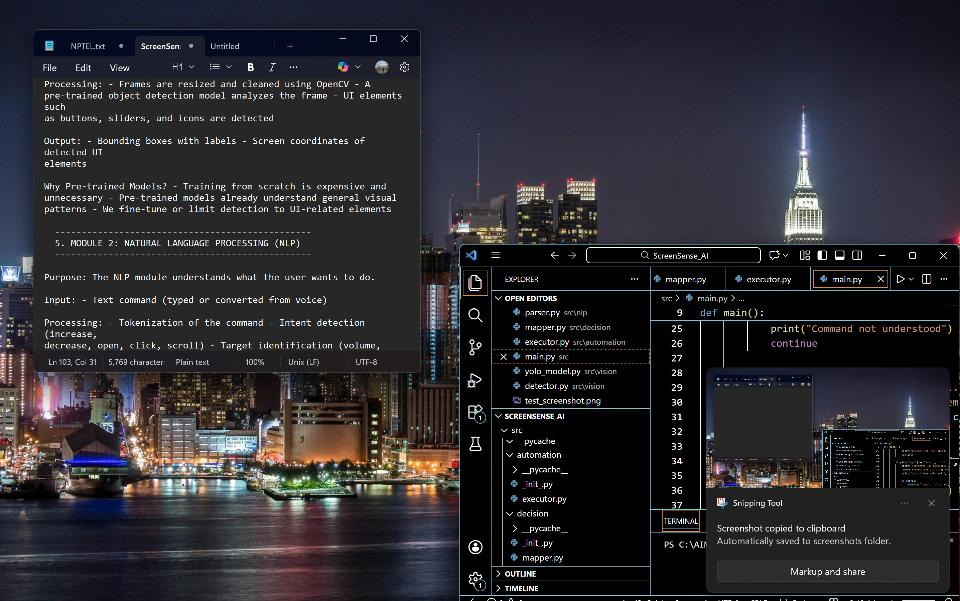close_button: (391, 32, 418, 55), (933, 246, 956, 266)
maximize_button: (362, 30, 385, 54), (901, 246, 927, 265)
minimize_button: (330, 30, 358, 54), (871, 245, 895, 268)
